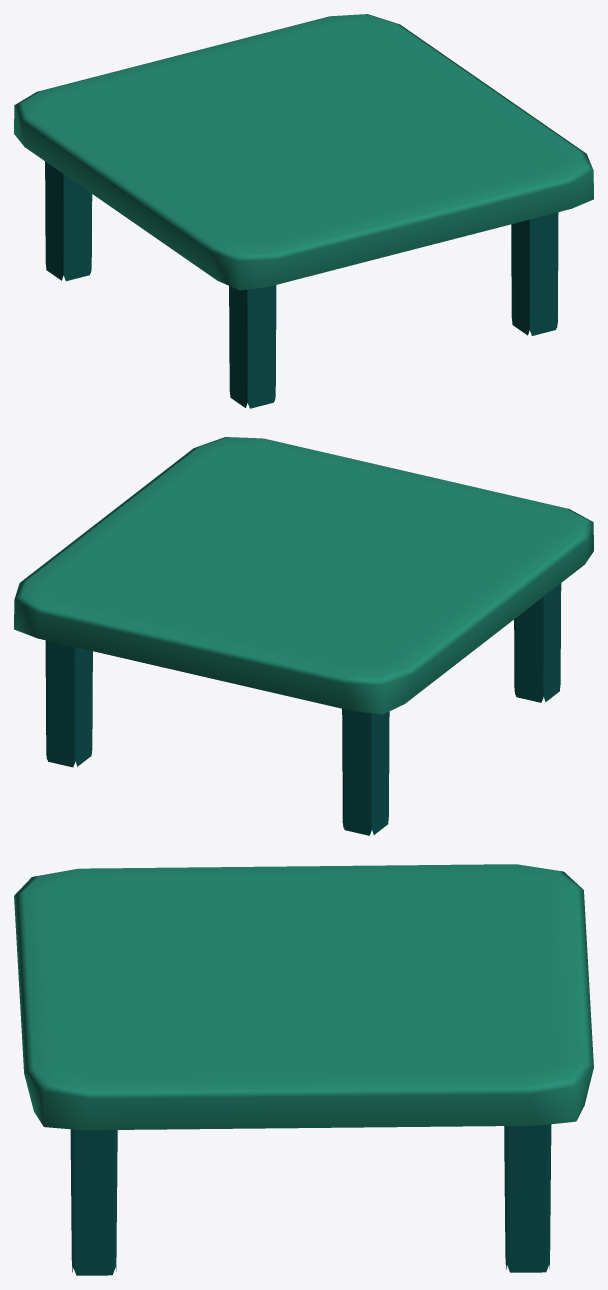
The model's file is SM_Y_01_F_Table1.fbx.
3 views of the same model, one above another, from view 1: azimuth 30°, elevation 25°; view 2: azimuth 150°, elevation 25°; view 3: azimuth 270°, elevation 25° (orthographic). The views are drawn at different scales.
Parts seen in each view (by area): view 1: SM_Y_01_F_Table1; view 2: SM_Y_01_F_Table1; view 3: SM_Y_01_F_Table1.
Boxes of the visible parts, x1=… form: SM_Y_01_F_Table1: x1=14, y1=14, x2=593, y2=408; SM_Y_01_F_Table1: x1=14, y1=437, x2=593, y2=835; SM_Y_01_F_Table1: x1=14, y1=864, x2=593, y2=1275.
Bounding box in the file's own units: 152 × 61.38 × 159.
